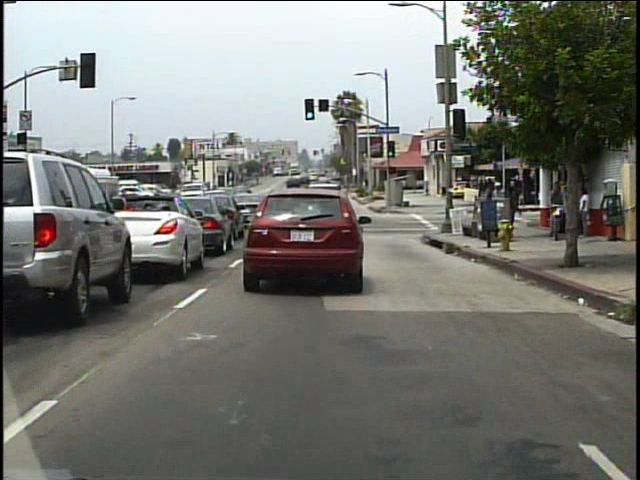person: (507, 181, 525, 237), (490, 180, 508, 227), (550, 182, 567, 231), (578, 186, 593, 239), (580, 183, 581, 241)
